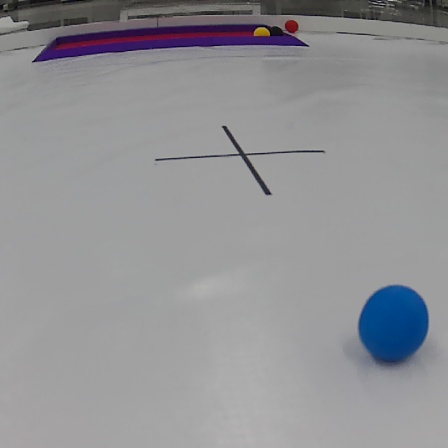black: (270, 26, 285, 34)
blue: (355, 284, 429, 368)
red: (286, 20, 301, 34)
red_aim: (30, 21, 309, 62)
yellow: (252, 28, 269, 36)
